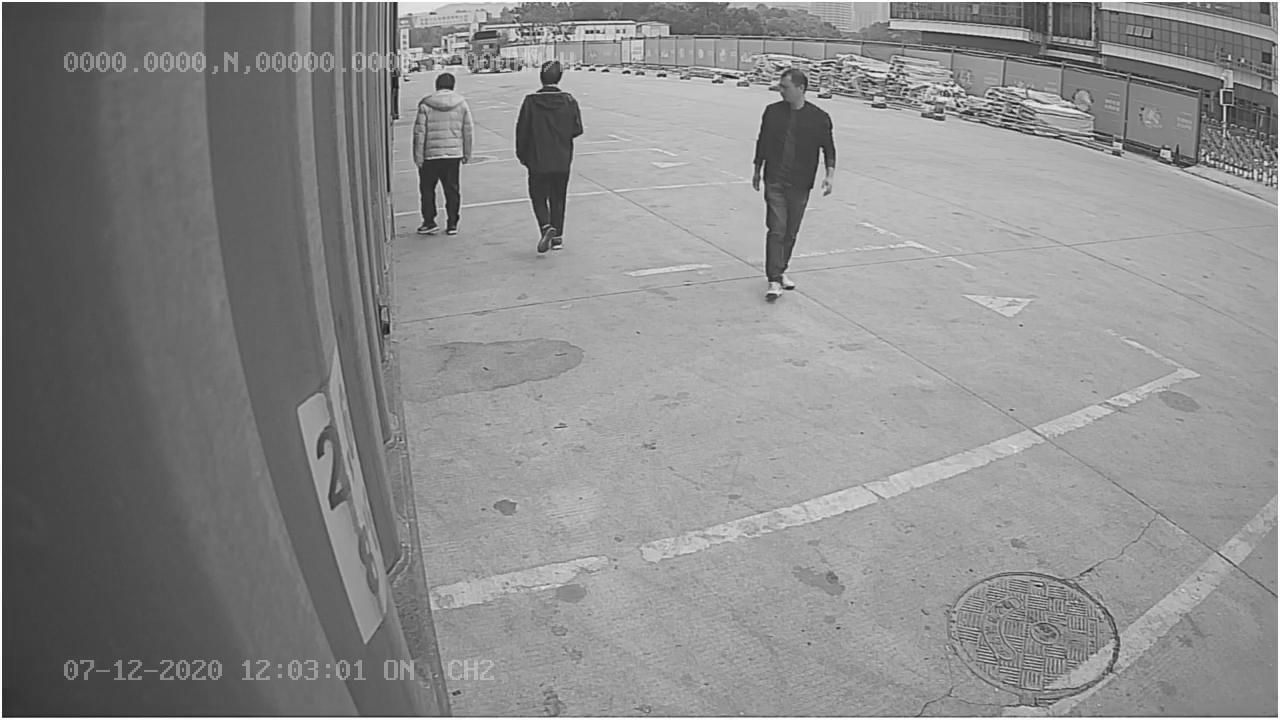person: (752, 69, 836, 300)
